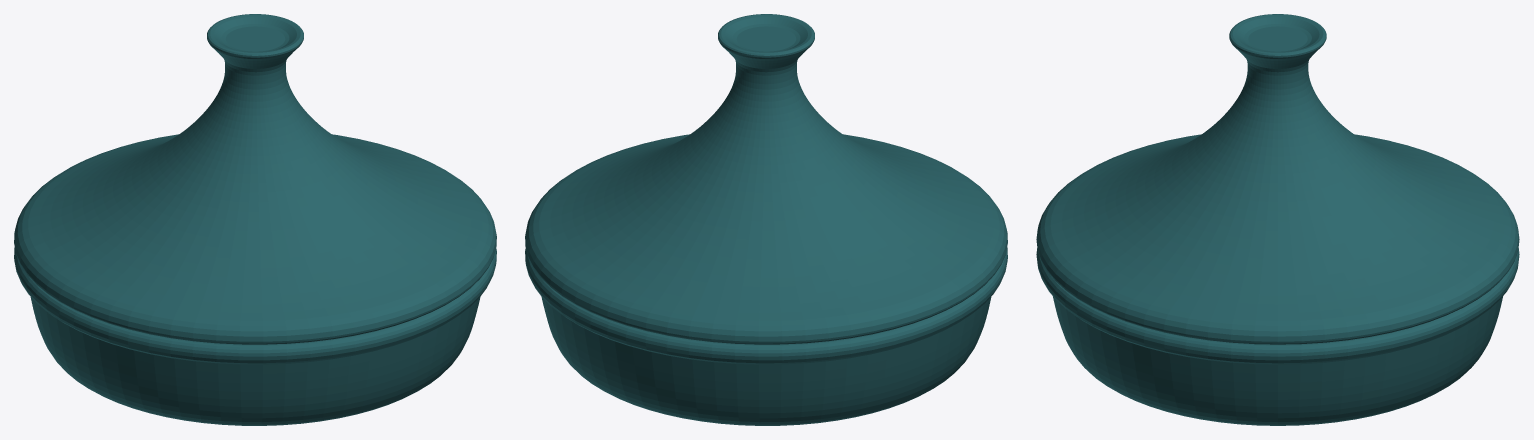
File: NEW600_ceramic_tagine_LOD1.glb
The picture shows the model from 3 angles, left to right: view 1: azimuth 30°, elevation 25°; view 2: azimuth 150°, elevation 25°; view 3: azimuth 270°, elevation 25°; orthographic projection.
Visible parts, largest first — view 1: Concave_lid_integral_grip, Ceramic_vessel; view 2: Concave_lid_integral_grip, Ceramic_vessel; view 3: Concave_lid_integral_grip, Ceramic_vessel.
Boxes of the visible parts, x1=… form: Concave_lid_integral_grip: x1=14, y1=14, x2=496, y2=344; Ceramic_vessel: x1=14, y1=247, x2=496, y2=425; Concave_lid_integral_grip: x1=525, y1=14, x2=1007, y2=344; Ceramic_vessel: x1=525, y1=247, x2=1007, y2=425; Concave_lid_integral_grip: x1=1036, y1=14, x2=1519, y2=344; Ceramic_vessel: x1=1036, y1=248, x2=1519, y2=425.
Bounding box in the file's own units: 0.325 × 0.23 × 0.325.
